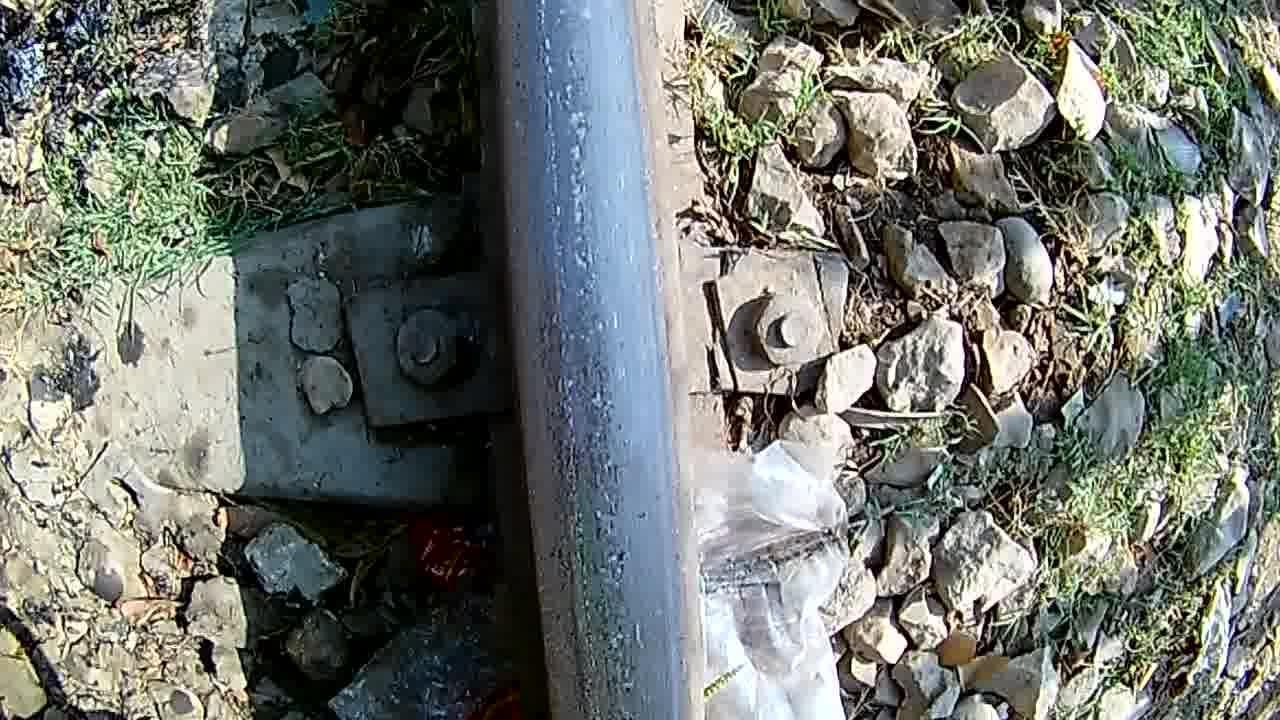crack: (538, 5, 667, 718)
